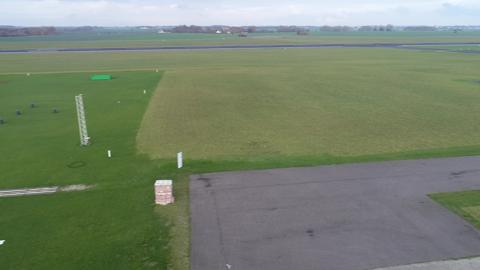RockwoolPallet: (154, 179, 174, 204)
